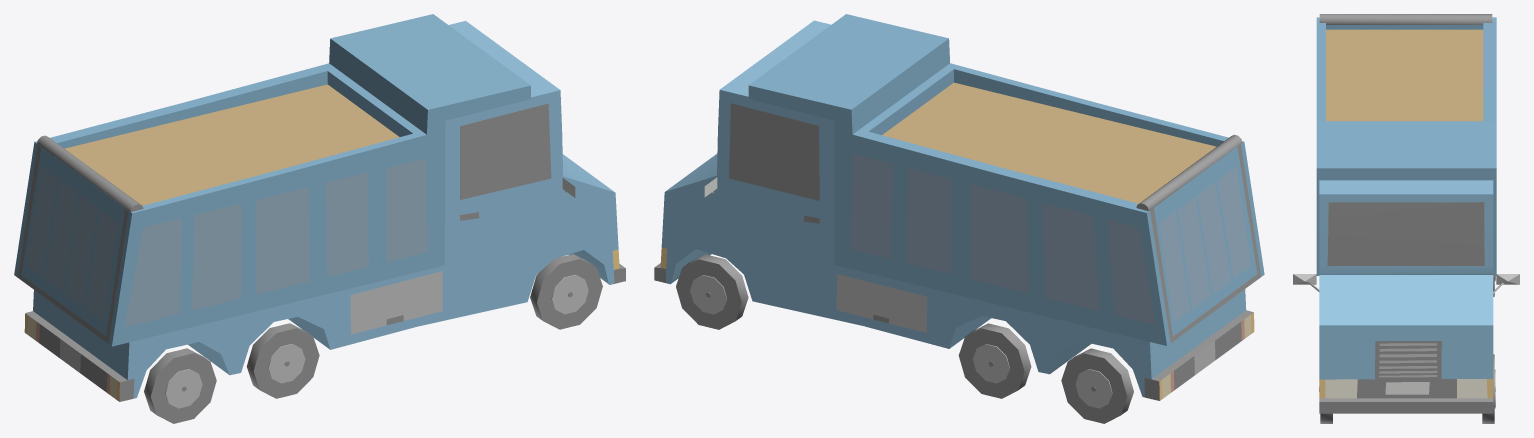
The model's file is truck.fbx.
The picture shows the model from 3 angles, left to right: view 1: azimuth 30°, elevation 25°; view 2: azimuth 150°, elevation 25°; view 3: azimuth 270°, elevation 25°; orthographic projection. The views are drawn at different scales.
Visible parts, largest first — view 1: Cylinder_2, Cylinder, Cylinder_9, Cylinder_6; view 2: Cylinder_2, Cylinder_8, Cylinder_1, Cylinder_7; view 3: Cylinder_2, Cylinder_7.
Boxes of the visible parts, x1,y1,x2,y2 form: Cylinder_2: (14,14,625,401); Cylinder: (246,323,319,398); Cylinder_9: (144,348,216,423); Cylinder_6: (530,254,602,329); Cylinder_2: (654,14,1264,400); Cylinder_8: (1061,348,1133,423); Cylinder_1: (958,323,1031,398); Cylinder_7: (676,254,748,329); Cylinder_2: (1293,14,1519,413); Cylinder_7: (1482,354,1495,423).
Size of the model in its own units: 597 by 281 by 247.
